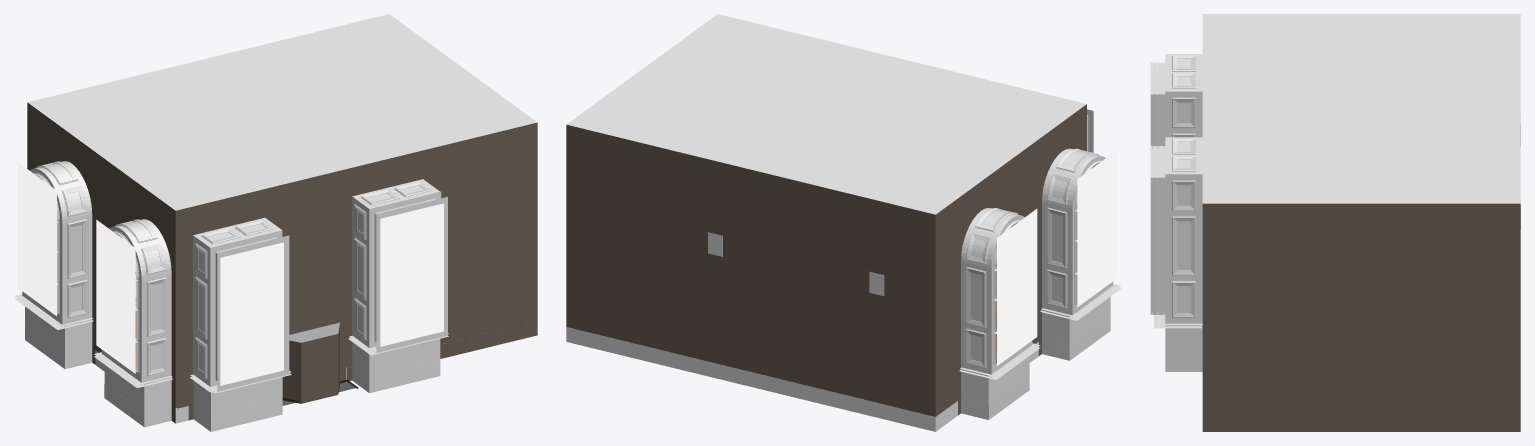
Rendered from fireplace.gltf.
The picture shows the model from 3 angles, left to right: view 1: azimuth 30°, elevation 25°; view 2: azimuth 150°, elevation 25°; view 3: azimuth 270°, elevation 25°; orthographic projection. The views are drawn at different scales.
Visible parts, largest first — view 1: fireplace_room; view 2: fireplace_room; view 3: fireplace_room.
Part boxes in pixels (bbox=[...]): fireplace_room: bbox=[14, 14, 537, 431]; fireplace_room: bbox=[566, 14, 1121, 431]; fireplace_room: bbox=[1150, 14, 1520, 431].
Bounding box in the file's own units: 14.09 × 7.21 × 10.59.
